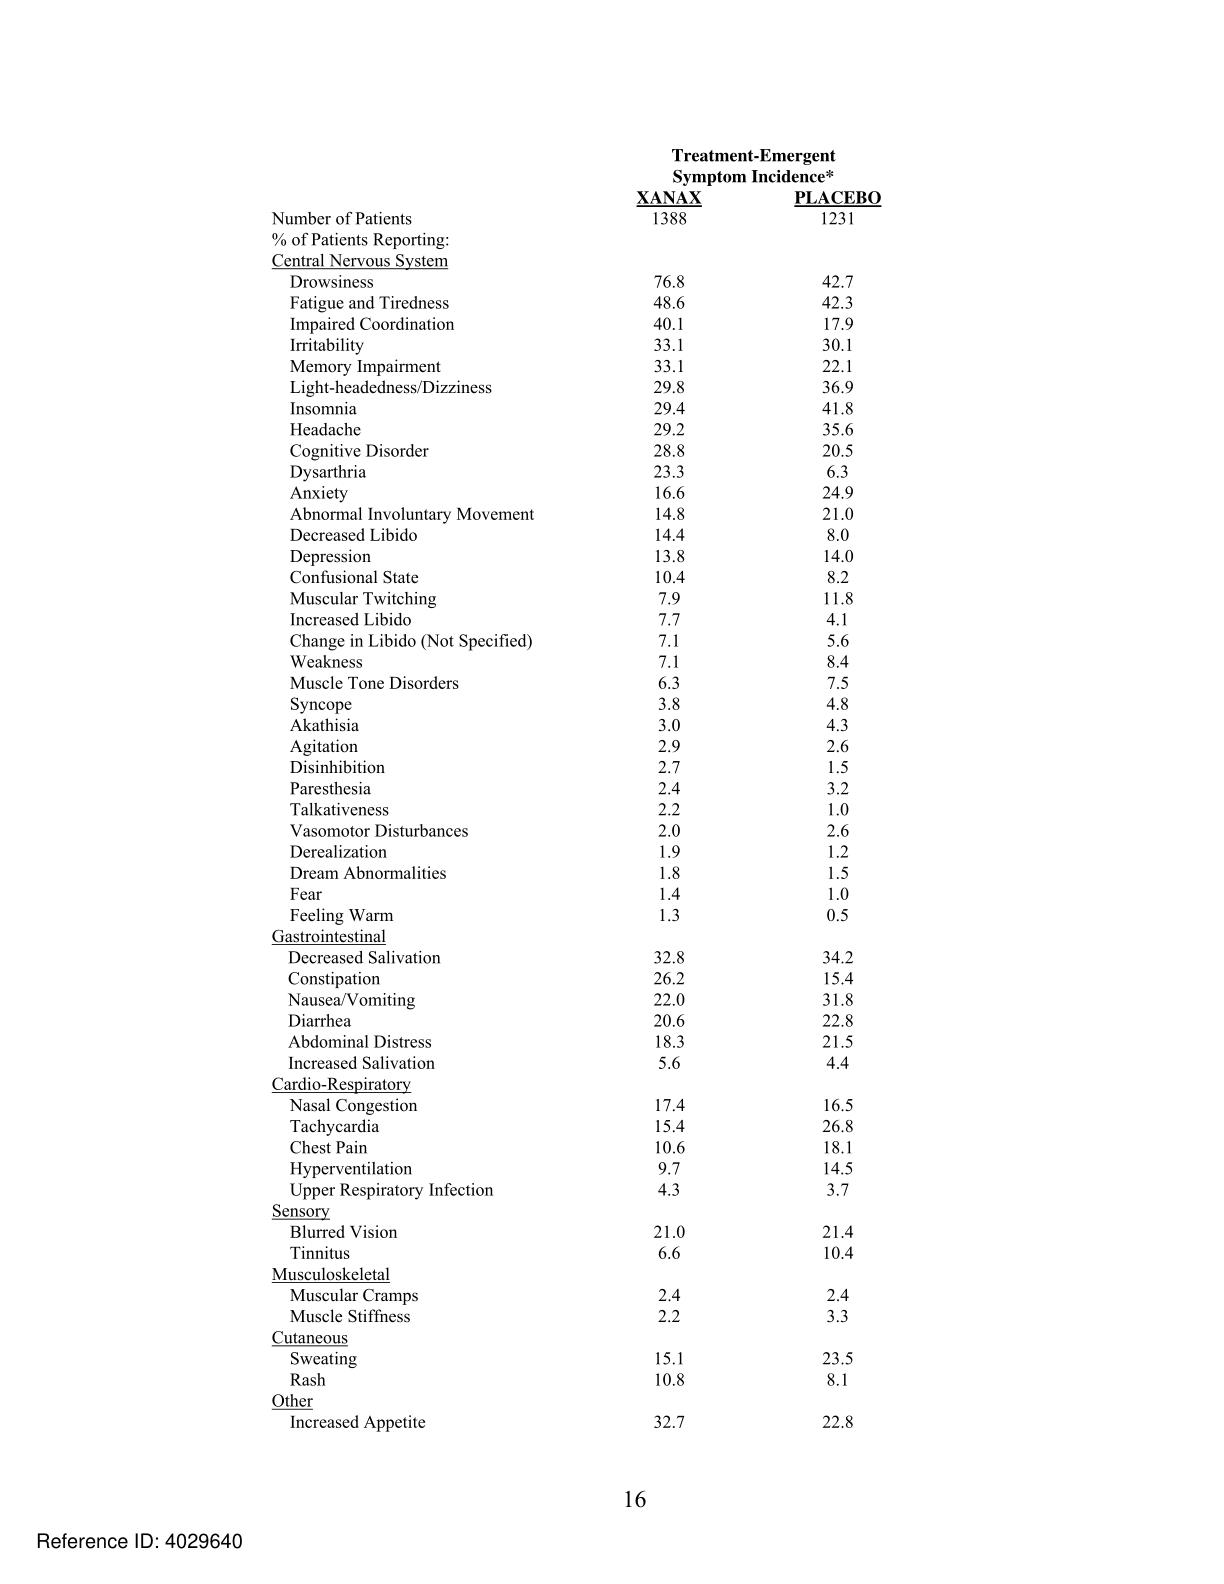nolines: (273, 149, 882, 1434)
